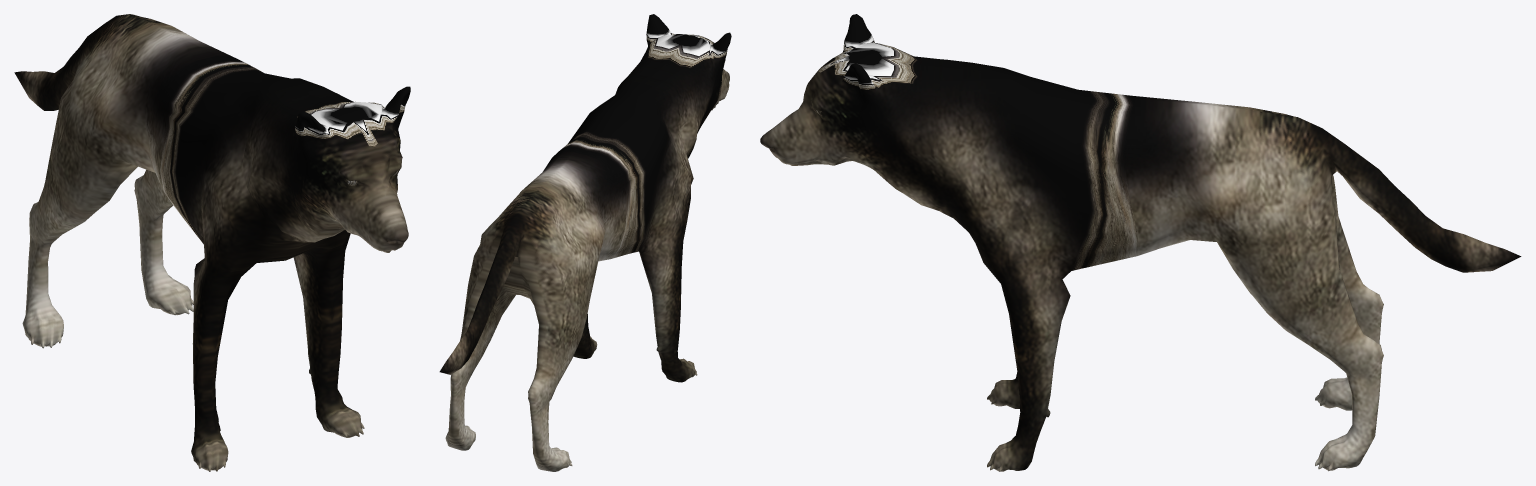
The model's file is wolf2.obj.
3 renders of one model, left to right at view 1: azimuth 30°, elevation 25°; view 2: azimuth 150°, elevation 25°; view 3: azimuth 270°, elevation 25°, orthographic. The views are drawn at different scales.
Parts seen in each view (by area): view 1: WOLF.001_WOLF.003; view 2: WOLF.001_WOLF.003; view 3: WOLF.001_WOLF.003.
Part boxes in pixels (box(x1,y1,x2,y2)): WOLF.001_WOLF.003: box(14, 14, 410, 471); WOLF.001_WOLF.003: box(439, 14, 731, 471); WOLF.001_WOLF.003: box(760, 14, 1521, 471).
Size of the model in its own units: 0.4985 by 1.18 by 2.04.
1 material, 1 textured.
